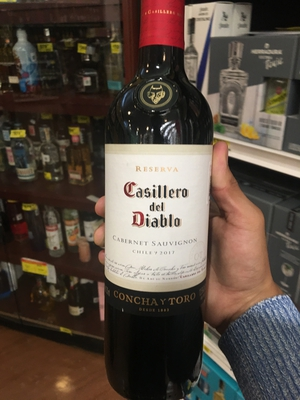casillero del diablo cabernet sauvignon: (93, 13, 223, 393)
